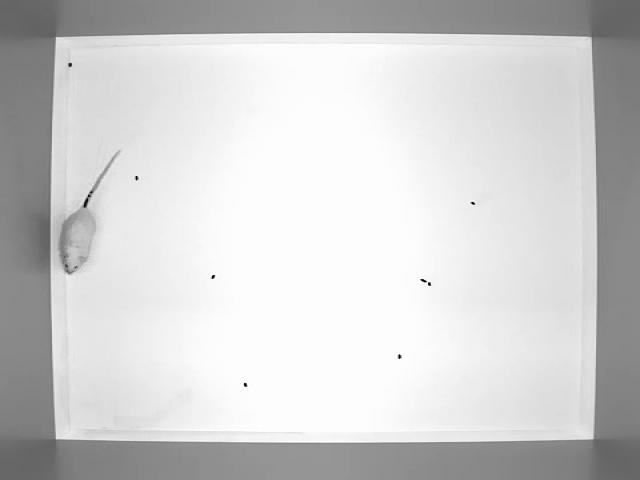Tikus: (59, 148, 121, 274)
